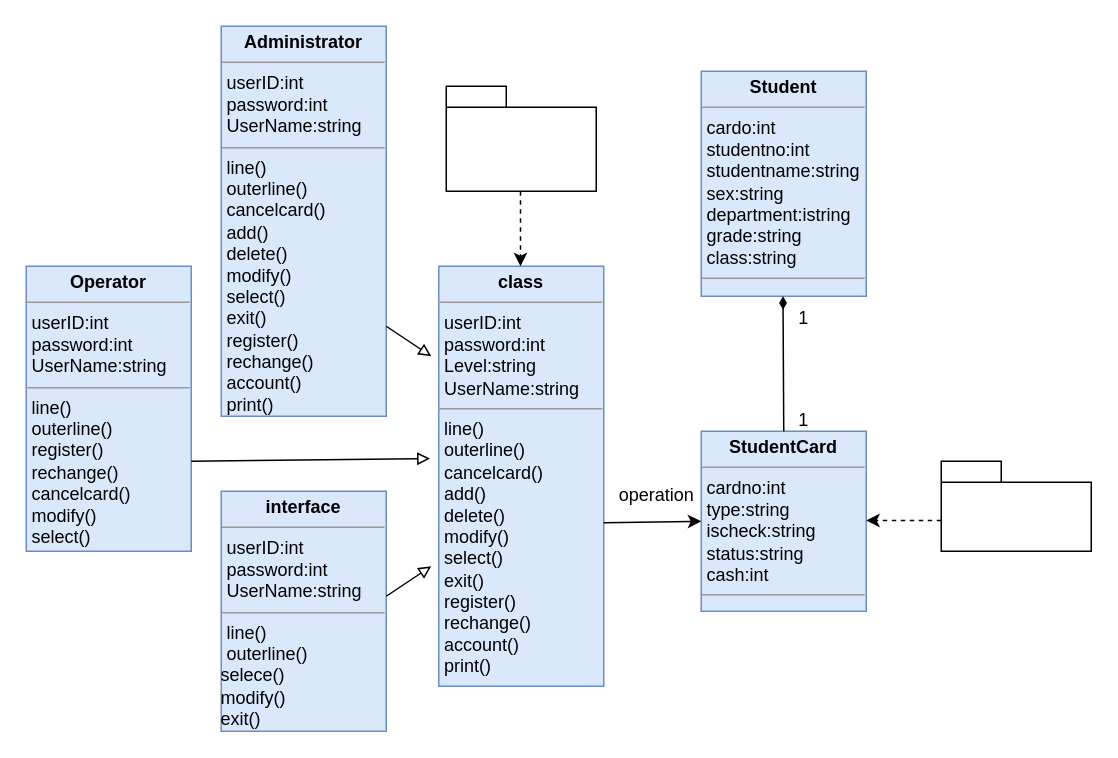
This 1118x758 diagram has some shape labels left out. The shapes that lost their labels are listed below. From the top down, each one's centre as x and y in pixels, then its label:
the point at 520,138: WorkerRecodes
the point at 1015,505: Studentrecodes
